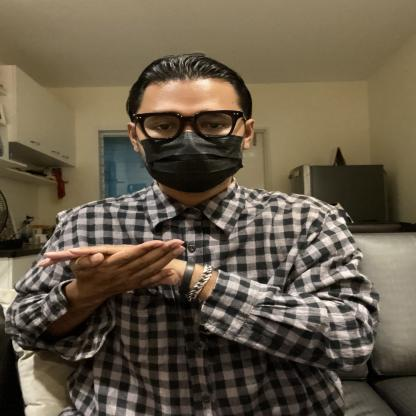Love: (13, 214, 244, 307)
